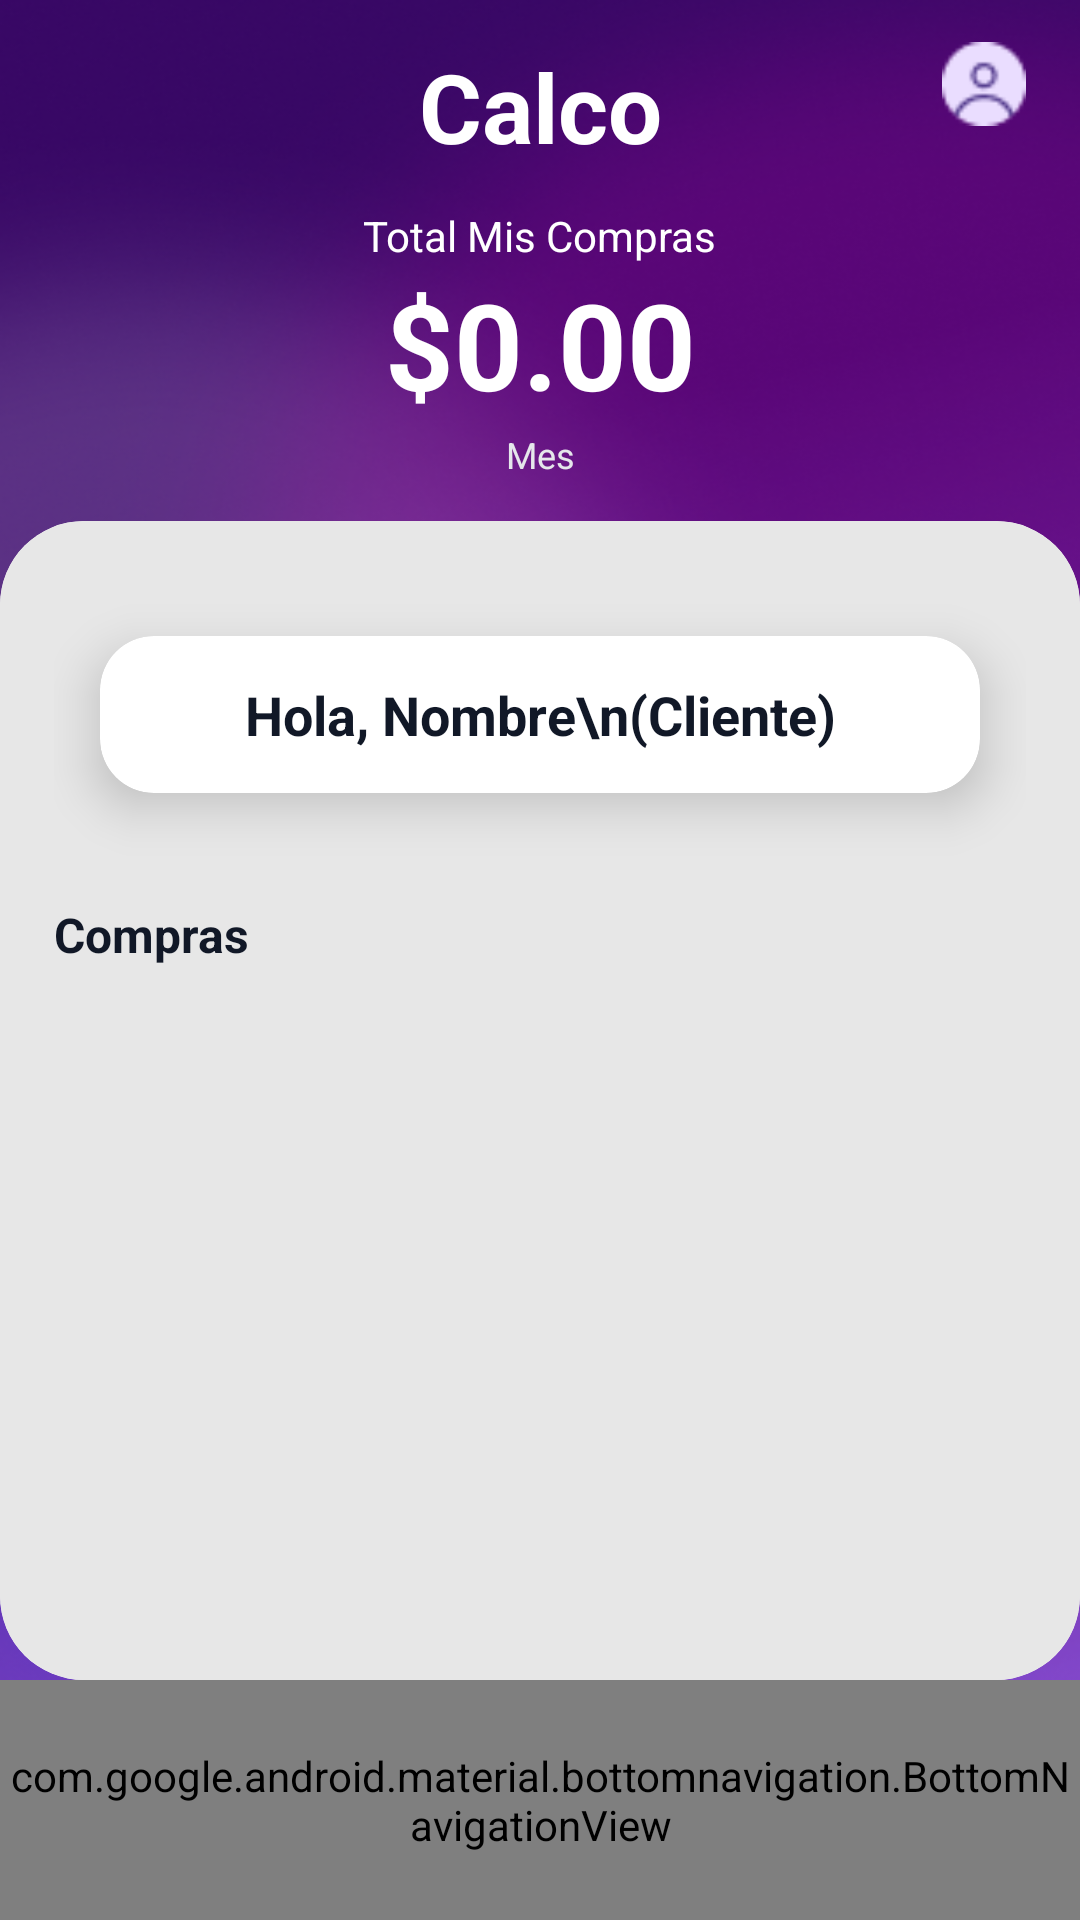

Icons on this 1080px x 1920px Android screen, each with its box as (x1, y1, x2, y2):
Perfil: (942, 42, 1026, 126)
